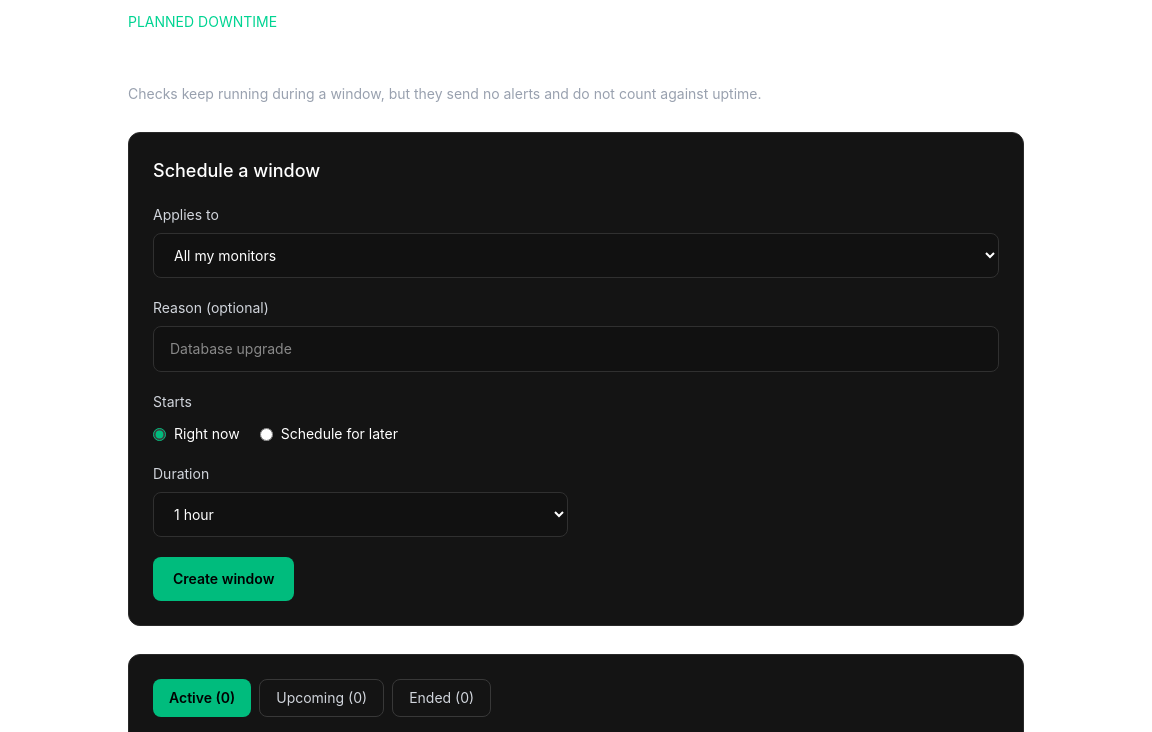
Test case: MaintenanceWindows page › creates an immediate one-hour window for all monitors
Check: the heading "Schedule a window" is shown, box [153, 160, 320, 181]
Click the button "Create window": (224, 579) [153, 557, 294, 601]
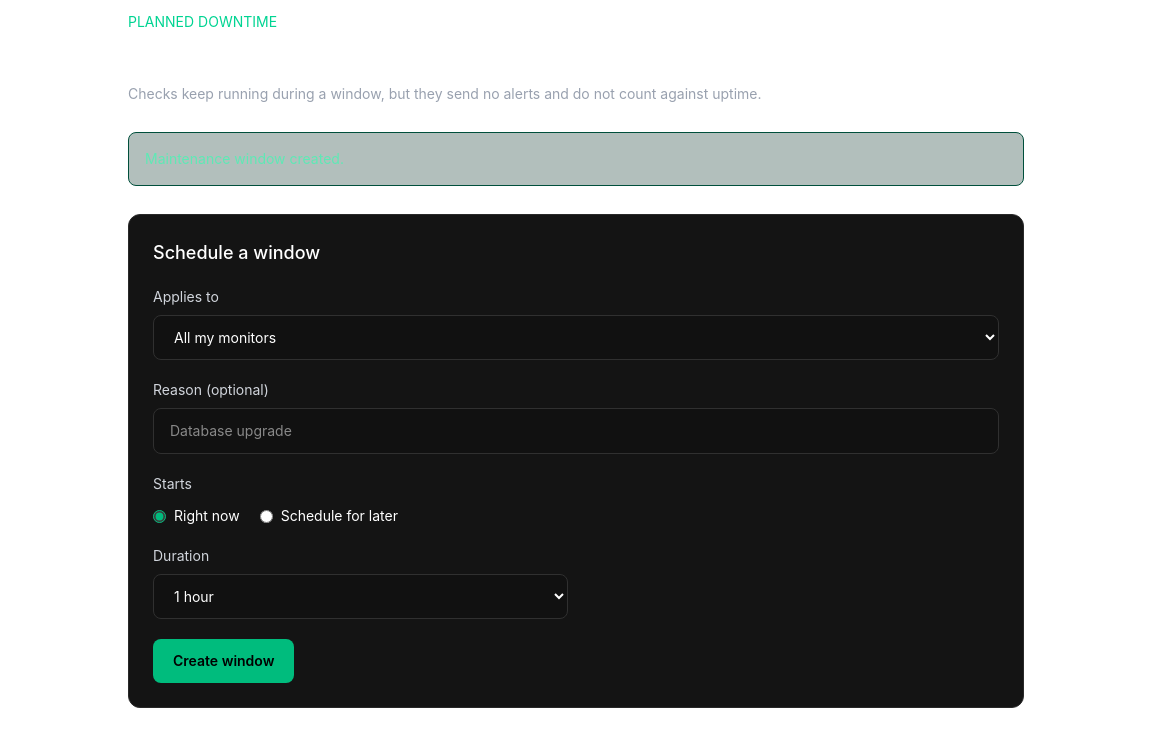
Check: the message reads "Maintenance window created.", box [145, 150, 344, 167]
